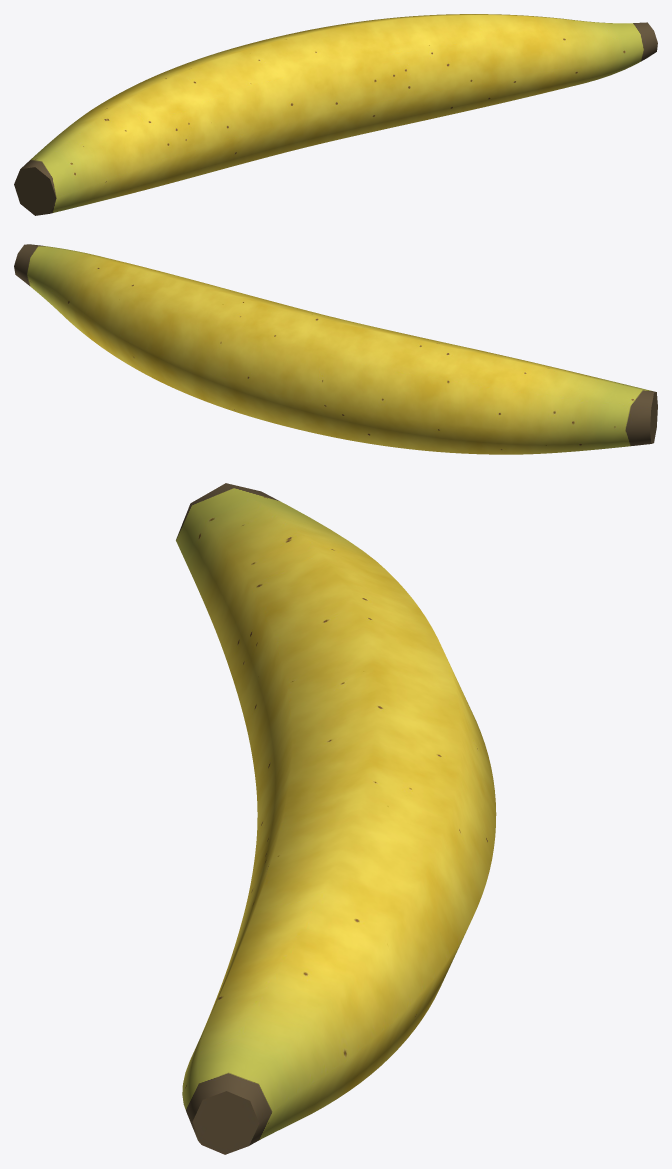
Rendered from banana.glb.
3 views of the same model, one above another, from view 1: azimuth 30°, elevation 25°; view 2: azimuth 150°, elevation 25°; view 3: azimuth 270°, elevation 25° (orthographic). The views are drawn at different scales.
Visible parts, largest first — view 1: banana; view 2: banana; view 3: banana.
Boxes of the visible parts, box(x1,y1,x2,y2) form: banana: box(14, 14, 657, 215); banana: box(14, 244, 657, 454); banana: box(176, 483, 496, 1154).
Bounding box in the file's own units: 15.05 × 2.49 × 3.34.
Materials: 1 (1 with a texture image).
